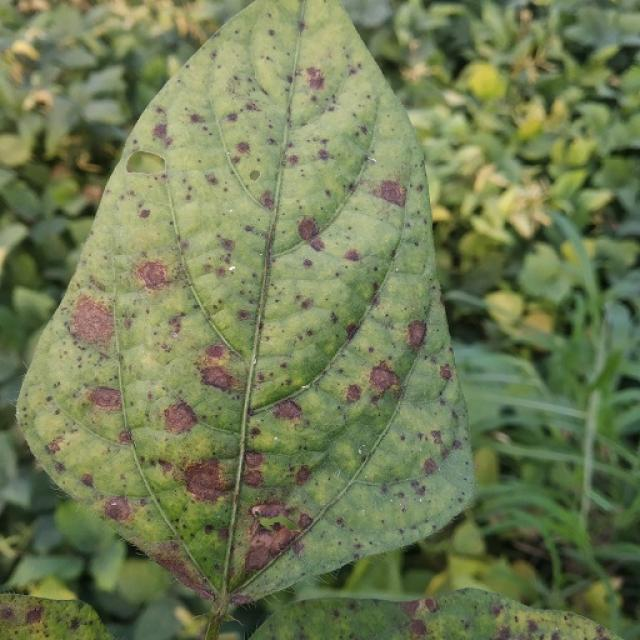Anthracnose: (117, 425, 319, 586), (175, 320, 344, 438), (213, 84, 280, 190), (202, 215, 251, 278), (157, 398, 209, 451), (69, 293, 116, 350), (183, 458, 230, 502), (242, 536, 282, 574), (200, 363, 240, 394), (162, 401, 198, 434), (368, 363, 399, 399), (241, 451, 271, 487), (136, 260, 171, 290), (87, 385, 123, 410), (102, 495, 133, 523), (250, 501, 291, 522), (399, 598, 436, 620), (377, 179, 407, 206), (271, 399, 303, 421), (303, 65, 326, 92), (406, 320, 427, 349), (297, 216, 320, 241), (204, 344, 227, 362), (166, 314, 184, 336), (344, 383, 362, 404), (407, 620, 428, 638), (294, 466, 312, 486), (25, 606, 43, 625), (151, 123, 168, 141), (422, 457, 438, 475), (231, 595, 254, 607), (438, 364, 453, 382), (343, 248, 361, 263), (496, 624, 512, 640), (0, 604, 15, 621), (309, 237, 325, 252), (489, 602, 504, 618), (260, 191, 274, 208), (220, 238, 235, 253), (235, 141, 251, 155), (205, 172, 220, 186), (80, 473, 94, 488), (526, 619, 540, 633), (424, 598, 438, 612), (188, 112, 203, 124), (430, 429, 443, 442), (413, 483, 426, 496), (237, 309, 251, 321), (138, 207, 151, 219), (317, 148, 329, 161), (225, 111, 238, 123), (68, 618, 80, 631), (300, 299, 312, 310), (287, 154, 299, 165), (331, 609, 342, 620), (249, 170, 260, 181), (302, 258, 313, 268), (297, 20, 306, 31), (336, 517, 345, 527), (267, 137, 276, 146), (353, 543, 362, 551), (268, 29, 275, 37), (457, 497, 464, 503)
Blackgram: (19, 0, 474, 620)
